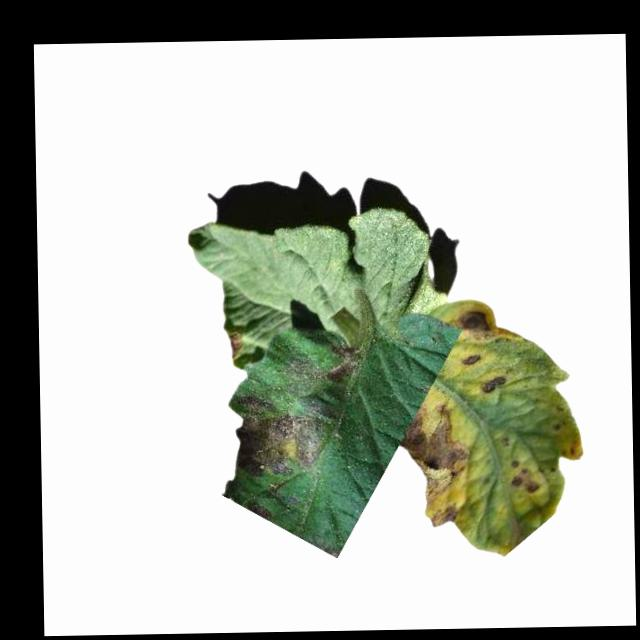Early_blight: (399, 401, 472, 528), (230, 390, 336, 475), (322, 343, 363, 382), (452, 304, 495, 334), (510, 456, 543, 492), (483, 373, 509, 393), (227, 329, 243, 358), (461, 352, 480, 365)
